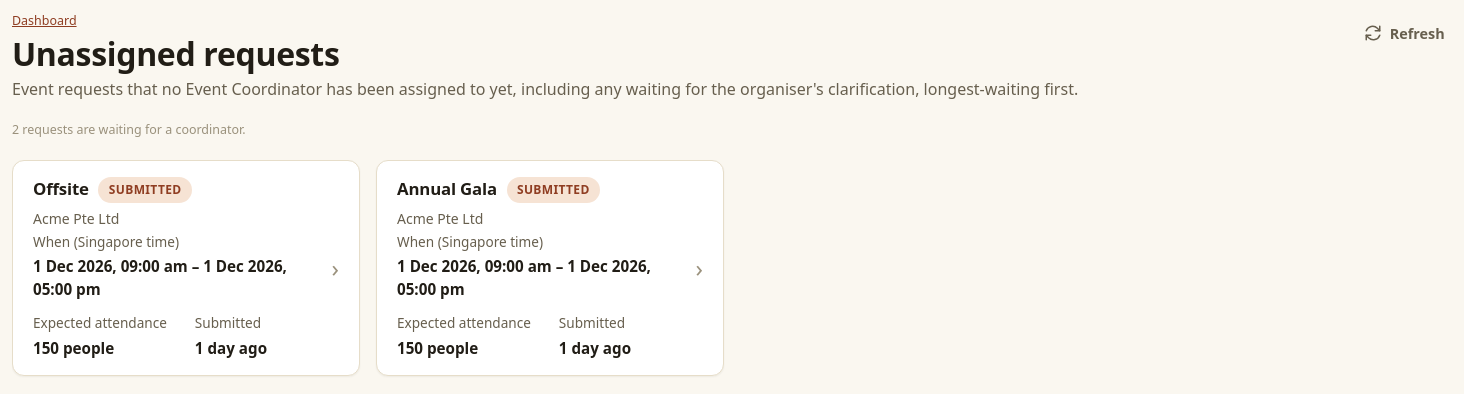
Test: UnassignedRequestsPage (ECL-C1 unassigned queue) › refreshing re-reads the queue: a new submission appears and an assigned request drops off
Click the button with aria-label "Refresh unassigned requests". click: [1404, 33]
box: left=1356, top=12, right=1452, bottom=55
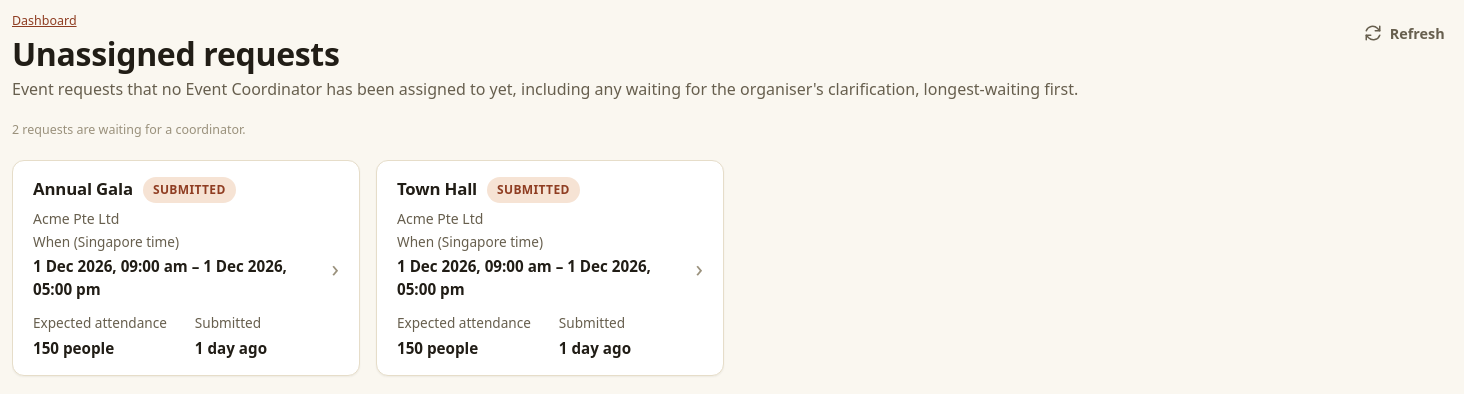
Check: the heading "Annual Gala" is shown, box left=33, top=178, right=133, bottom=201
Check: the link "Offsite" is gone
